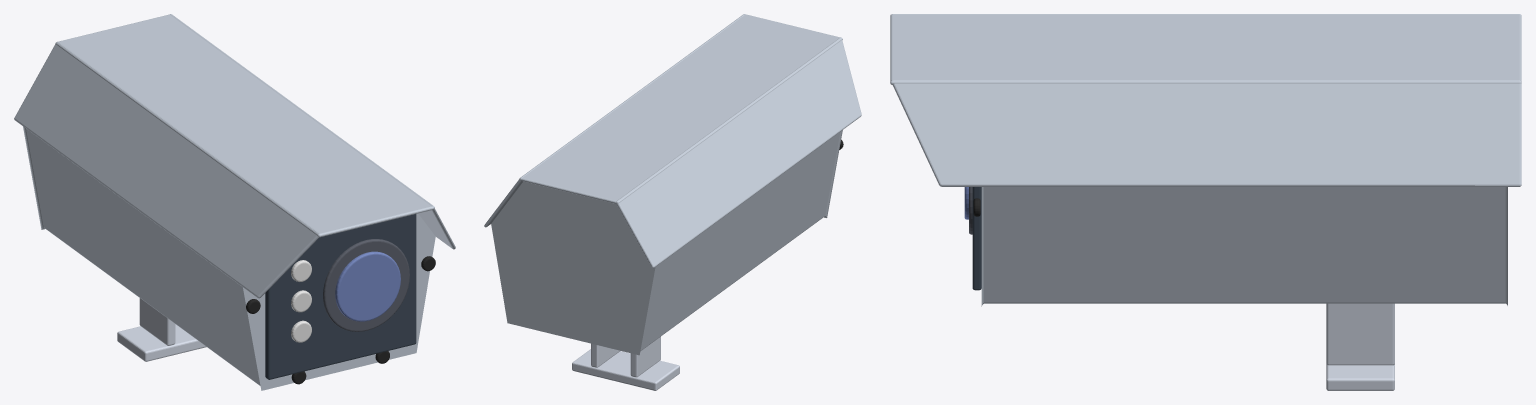
File: 摄像头.fbx
The picture shows the model from 3 angles, left to right: view 1: azimuth 30°, elevation 25°; view 2: azimuth 150°, elevation 25°; view 3: azimuth 270°, elevation 25°; orthographic projection. The views are drawn at different scales.
Parts seen in each view (by area): view 1: 01_六边形机身; view 2: 01_六边形机身; view 3: 01_六边形机身.
Boxes of the visible parts, x1=… form: 01_六边形机身: x1=14, y1=14, x2=455, y2=390; 01_六边形机身: x1=484, y1=14, x2=861, y2=390; 01_六边形机身: x1=890, y1=14, x2=1521, y2=390.
Size of the model in its own units: 24.12 by 30.43 by 55.2.
